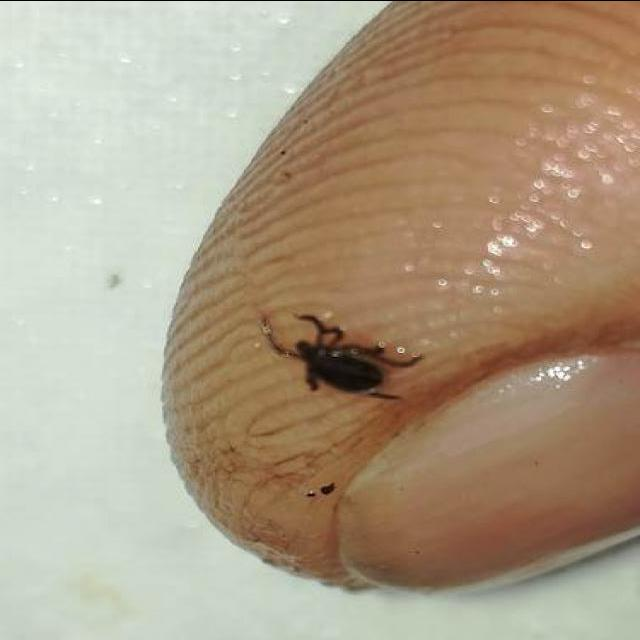Ixodes Ricinus-M: (259, 310, 422, 398)
